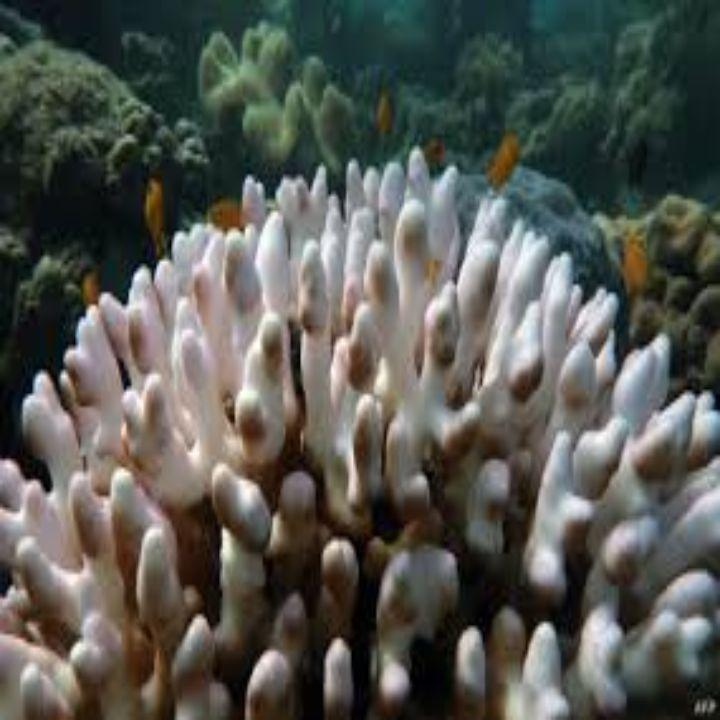Bleached-disease: (0, 148, 720, 720)
